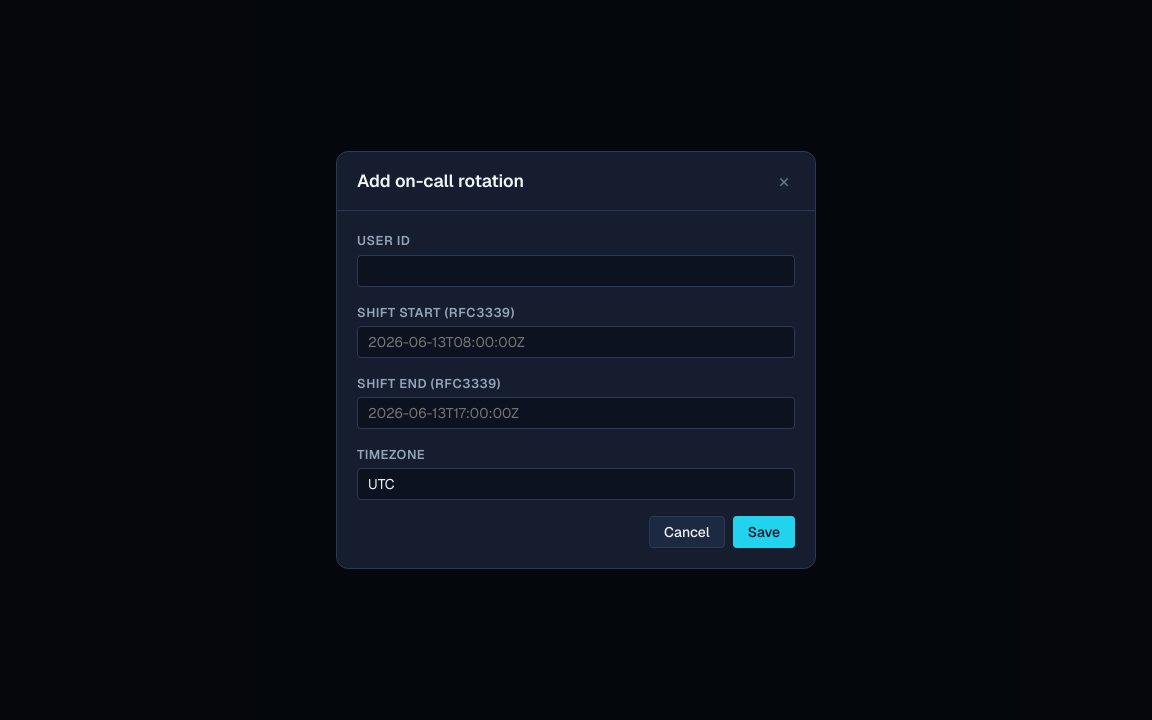
OnCallEditor › shows a validation error when required fields are missing
Click the button "Save".
click(764, 532)  # box [733, 516, 795, 548]
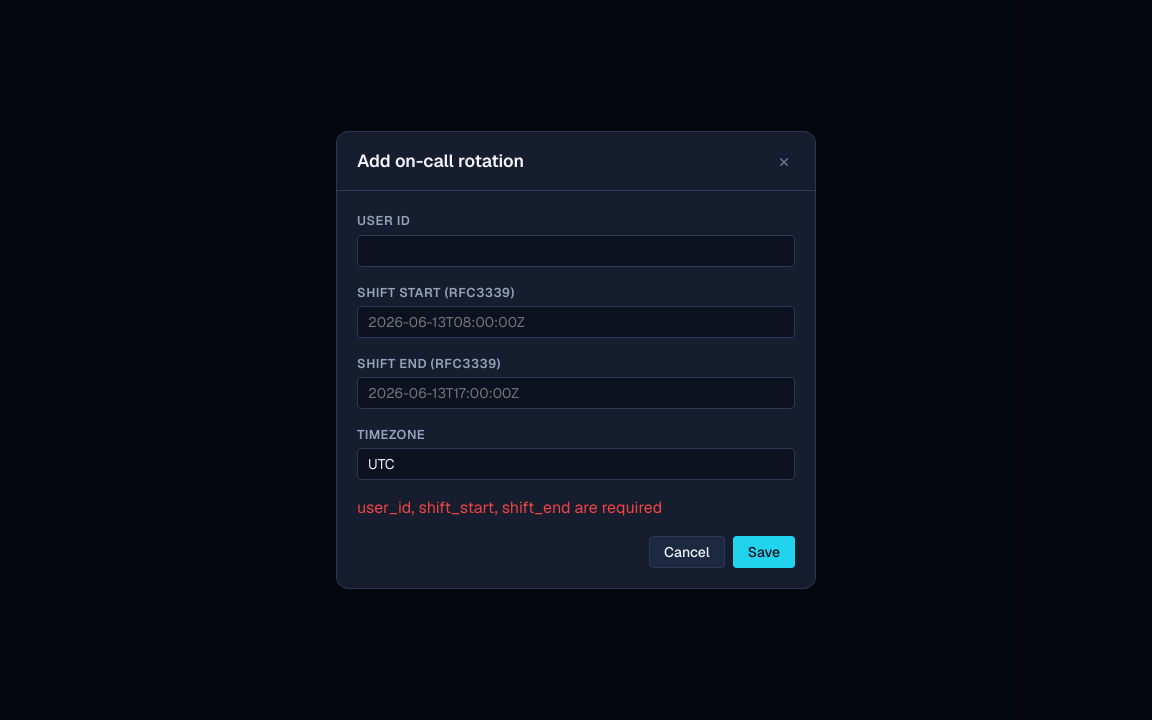
Check: the text "user_id, shift_start, shift_end are required" is shown, box [357, 497, 662, 518]
